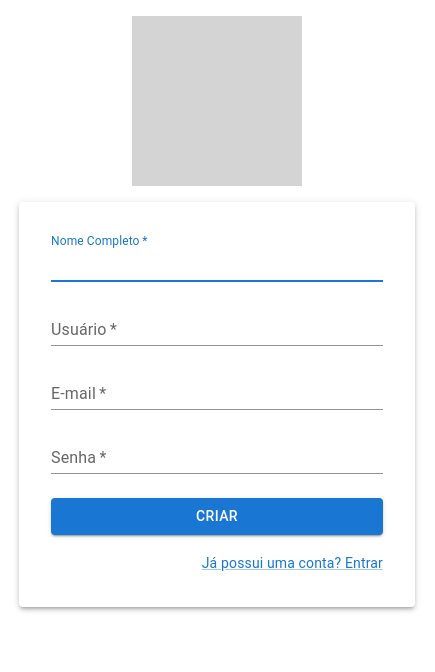
Test: Register › exibe mensagem de erro quando register retorna status diferente de 201
Type "João" into the field labelled "Nome Completo *" at (217, 266), box [51,250,383,282]
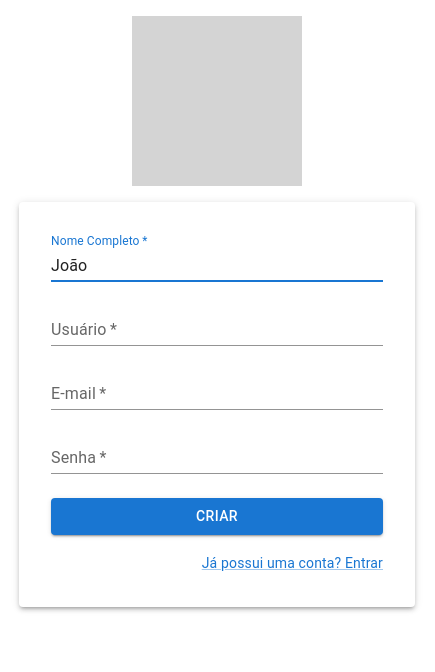
Type "joao" into the field labelled "Usuário *" at (217, 330), box [51,314,383,346]
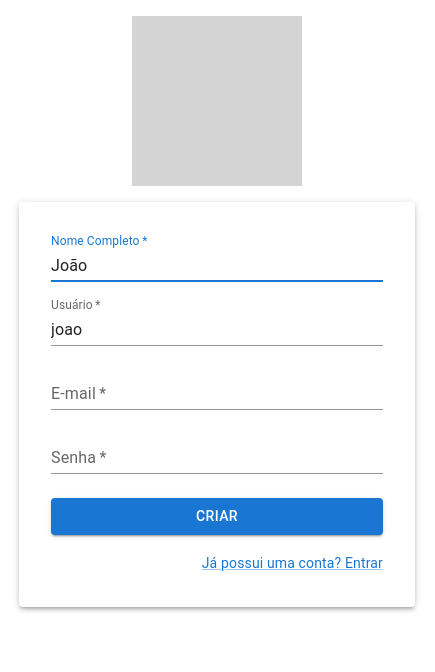
Type "joao@email.com" into the field labelled "E-mail *" at (217, 394), box [51,378,383,410]
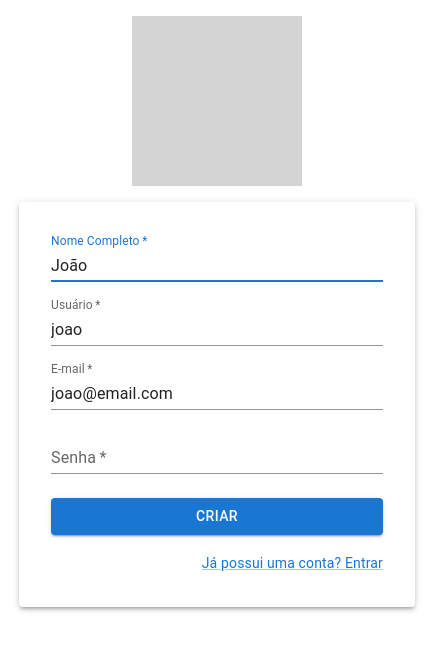
Type "senha" into the password field labelled "Senha *" at (217, 458), box [51,442,383,474]
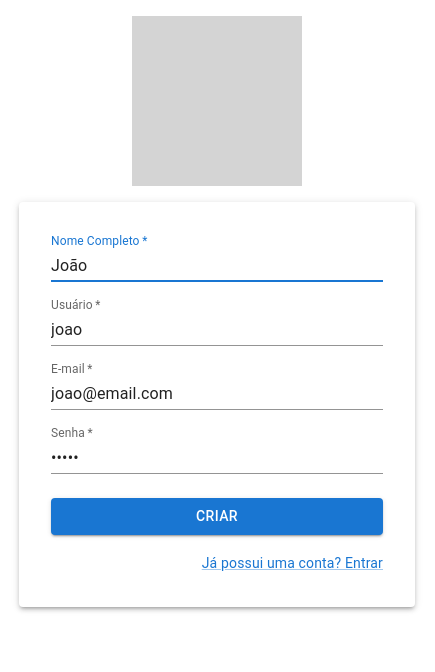
Submit the form "Criar", box [51,218,383,574]
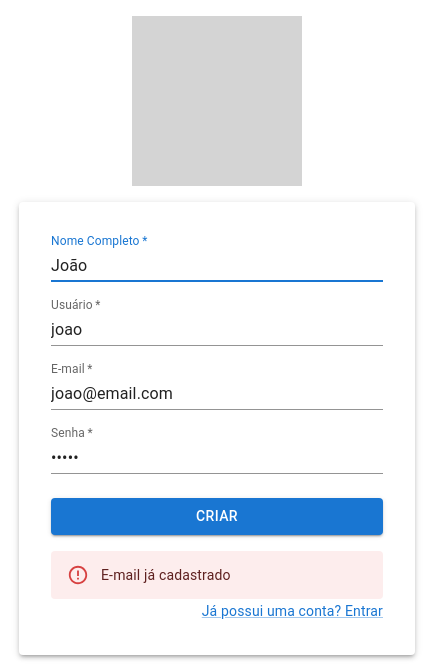
Result: the text "E-mail já cadastrado" is shown at [101,566,231,582]
